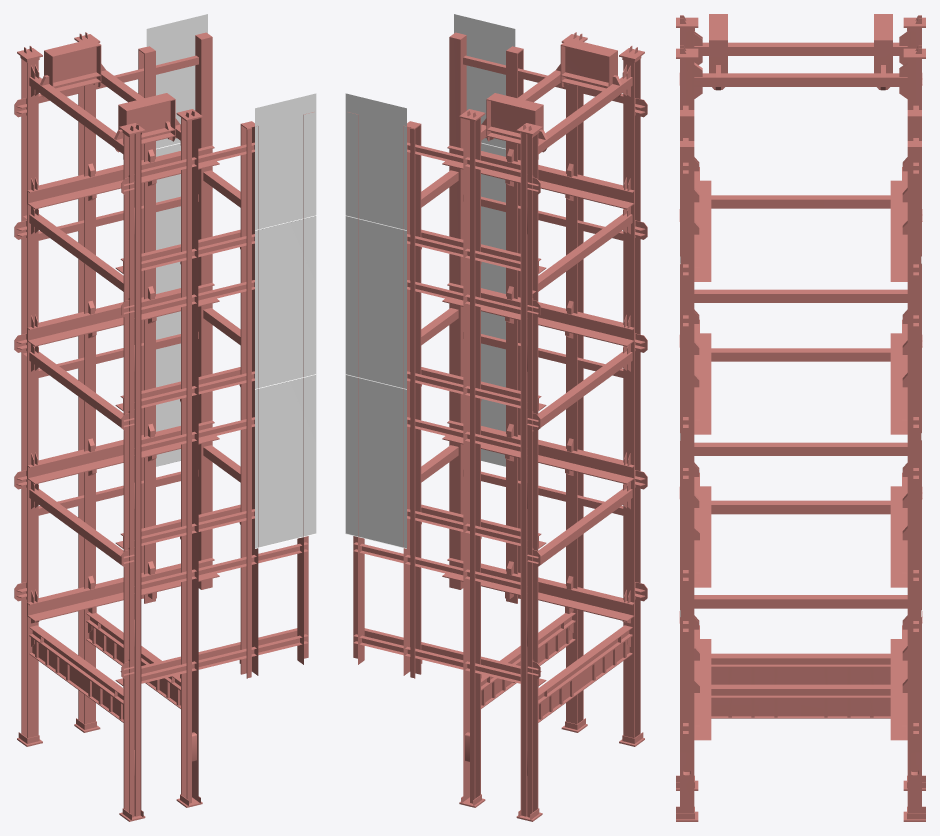
Rendered from SM_H_Building_Tide_DeepJail_12b_ATLAS.fbx.
3 renders of one model, left to right at view 1: azimuth 30°, elevation 25°; view 2: azimuth 150°, elevation 25°; view 3: azimuth 270°, elevation 25°, orthographic. The views are drawn at different scales.
Visible parts, largest first — view 1: SM_H_Building_Tide_DeepJail_12b_ATLAS; view 2: SM_H_Building_Tide_DeepJail_12b_ATLAS; view 3: SM_H_Building_Tide_DeepJail_12b_ATLAS.
Boxes of the visible parts, box(x1,y1,x2,y2) form: SM_H_Building_Tide_DeepJail_12b_ATLAS: box(14, 14, 316, 821); SM_H_Building_Tide_DeepJail_12b_ATLAS: box(345, 14, 647, 821); SM_H_Building_Tide_DeepJail_12b_ATLAS: box(676, 14, 925, 821).
Bounding box in the file's own units: 940 × 942 × 3224.
